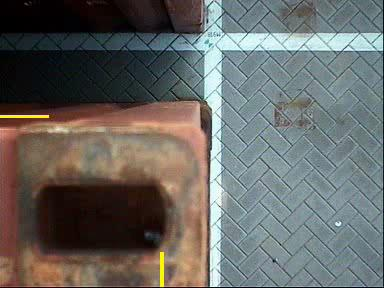groundmarker_2: (139, 139, 228, 268)
